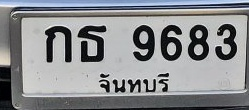txt01: (43, 24, 73, 64)
txt19: (76, 24, 107, 64)
